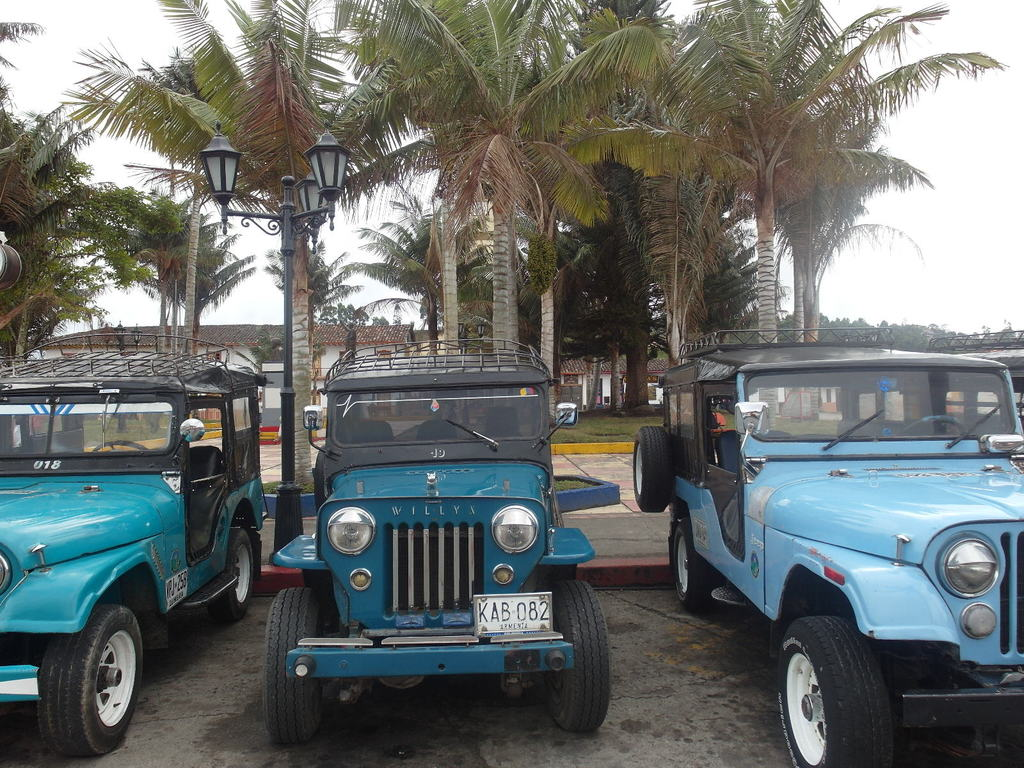Tree: (0, 0, 1010, 485)
